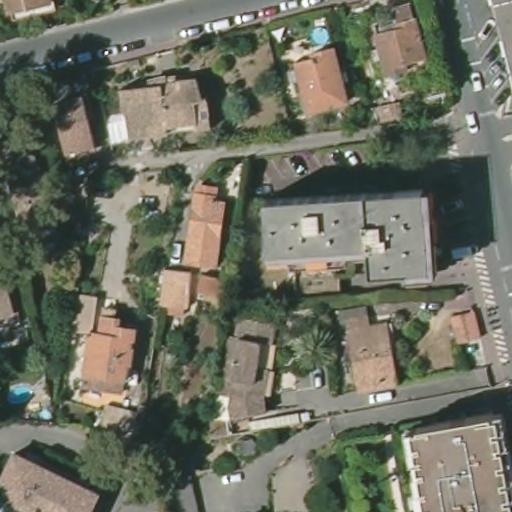pool: (6, 378, 39, 410), (306, 24, 335, 46)
